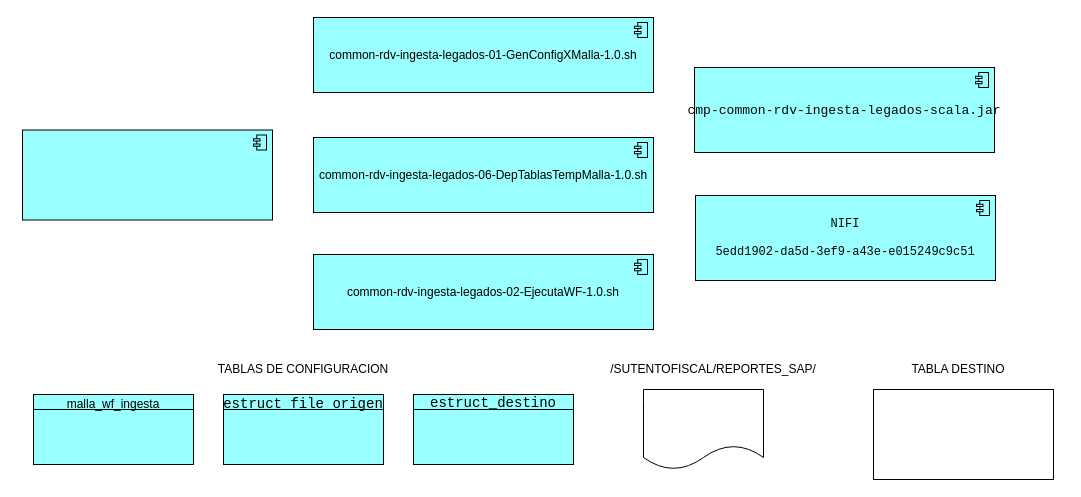
Image size: 1081x497. Some labels were removed from this diagram. Here are the shapes that lost their labels. From the top down, the centre of each, then its label:
(147,174): M790_M_RDV_ING_DATOS_CVM_PRUEBA
(703,429): CVM_ACTIVOS_FIJOS_MO_MMYYDD.TXT
(963,434): cvm_activos_fijos_mo
